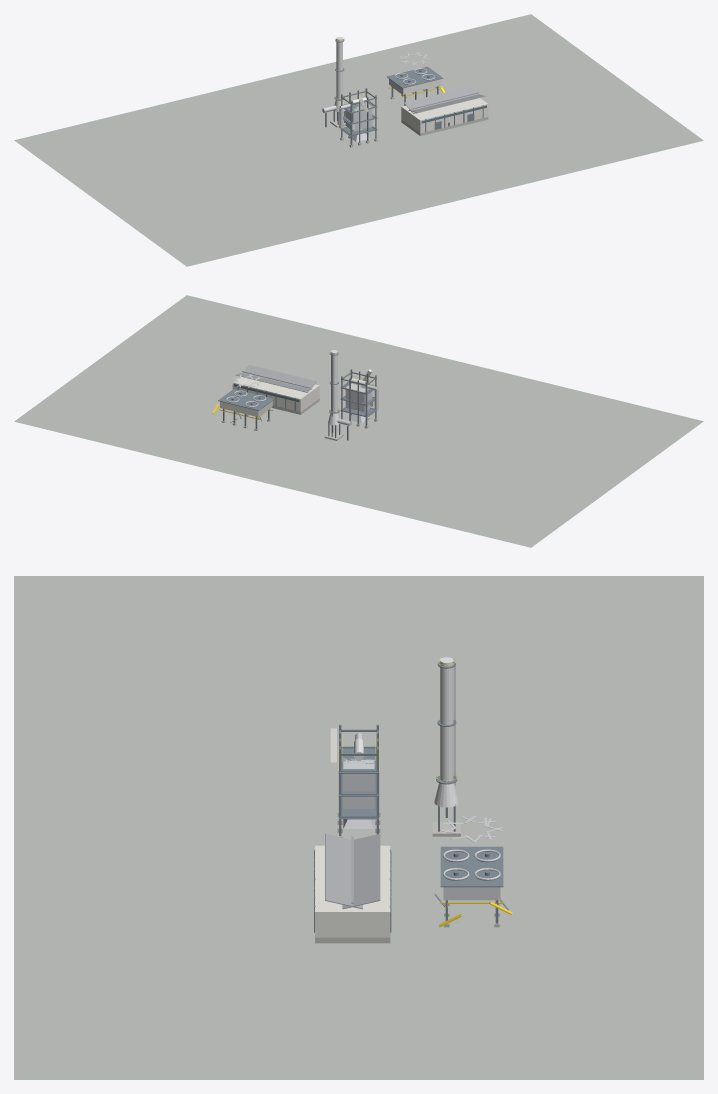
The model's file is sts-anchors-poc.glb.
3 renders of one model, top to bottom at view 1: azimuth 30°, elevation 25°; view 2: azimuth 150°, elevation 25°; view 3: azimuth 270°, elevation 25°, orthographic. The views are drawn at different scales.
Parts seen in each view (by area): view 1: Ground, TG_Mass, TG_Roof_N, ACC_Deck, BOIL_Core, STACK_Barrel; view 2: Ground, TG_Mass, TG_Roof_S, BOIL_Core, ACC_Deck, STACK_Barrel; view 3: Ground, TG_Mass, TG_Roof_N, TG_Roof_S, ACC_Deck, STACK_Barrel, BOIL_Core, ACC_Body.
Part boxes in pixels (left/top/right/bottom): Ground: left=14, top=14, right=703, bottom=266; TG_Mass: left=401, top=98, right=488, bottom=133; TG_Roof_N: left=404, top=86, right=478, bottom=113; ACC_Deck: left=387, top=66, right=443, bottom=88; BOIL_Core: left=345, top=102, right=372, bottom=131; STACK_Barrel: left=336, top=37, right=342, bottom=99; Ground: left=14, top=295, right=703, bottom=547; TG_Mass: left=232, top=377, right=319, bottom=411; TG_Roof_S: left=242, top=364, right=316, bottom=392; BOIL_Core: left=345, top=383, right=372, bottom=412; ACC_Deck: left=218, top=389, right=274, bottom=410; STACK_Barrel: left=331, top=350, right=337, bottom=412; Ground: left=14, top=576, right=703, bottom=1079; TG_Mass: left=315, top=845, right=390, bottom=937; TG_Roof_N: left=342, top=834, right=380, bottom=909; TG_Roof_S: left=325, top=834, right=362, bottom=909; ACC_Deck: left=440, top=846, right=503, bottom=887; STACK_Barrel: left=440, top=657, right=453, bottom=781; BOIL_Core: left=343, top=758, right=374, bottom=808; ACC_Body: left=443, top=887, right=499, bottom=900.
Size of the model in its own units: 380 by 82.67 by 220.
